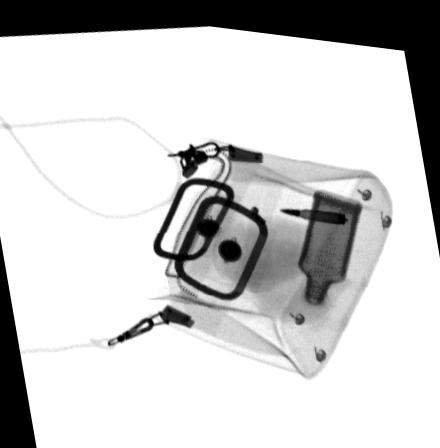Bullet: (274, 198, 347, 215)
